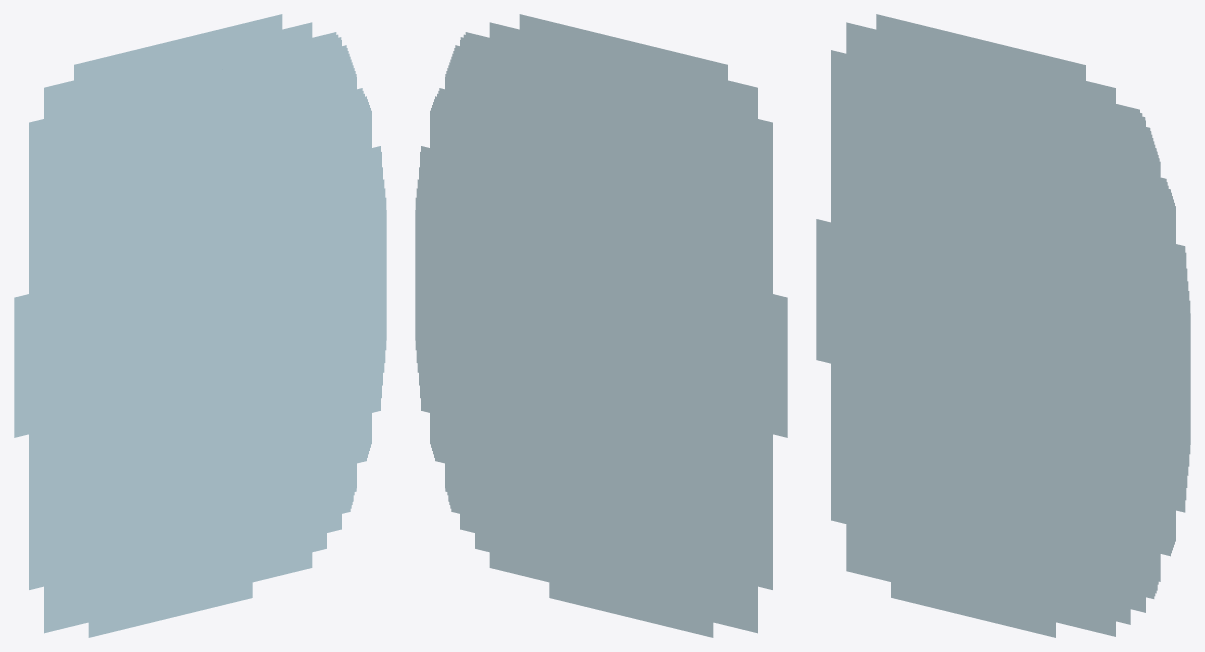
The model's file is wp_water_9.obj.
3 renders of one model, left to right at view 1: azimuth 30°, elevation 25°; view 2: azimuth 150°, elevation 25°; view 3: azimuth 330°, elevation 25°, orthographic.
Size of the model in its own units: 0.366 by 0.5416 by 0.
Materials: 1 (1 with a texture image).
